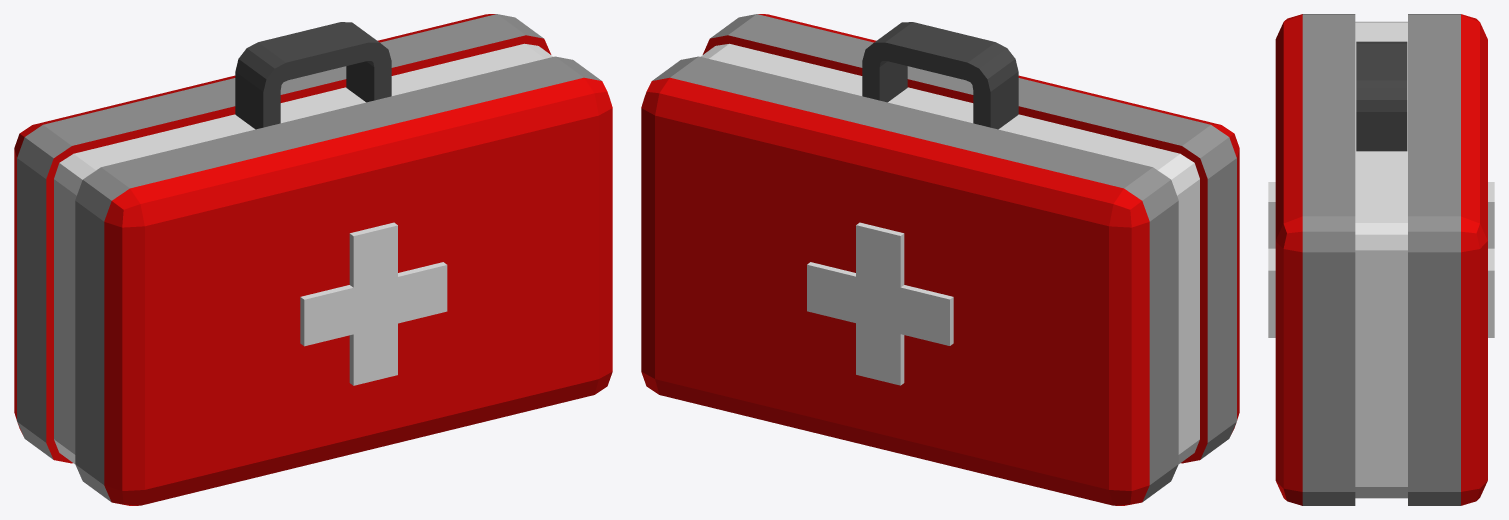
The model's file is Medkit.fbx.
3 views of the same model, side by side, from view 1: azimuth 30°, elevation 25°; view 2: azimuth 150°, elevation 25°; view 3: azimuth 270°, elevation 25° (orthographic). The views are drawn at different scales.
Parts seen in each view (by area): view 1: Medkit; view 2: Medkit; view 3: Medkit.
Boxes of the visible parts, bbox=[...] form: Medkit: bbox=[14, 14, 612, 505]; Medkit: bbox=[641, 14, 1239, 505]; Medkit: bbox=[1268, 14, 1494, 505].
Bounding box in the file's own units: 50 × 35.57 × 21.31.
